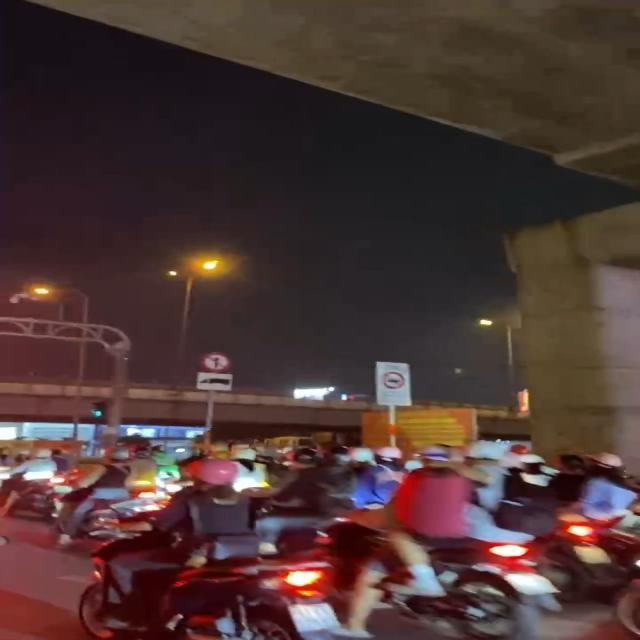136-cam-di-thang: (198, 351, 232, 373)
